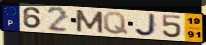2: (45, 6, 72, 33)
5: (161, 14, 183, 39)
6: (22, 7, 43, 30)
J: (133, 13, 158, 37)
M: (75, 9, 105, 34)
Q: (102, 11, 130, 36)
